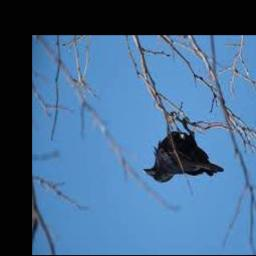Crow: (142, 118, 223, 184)
